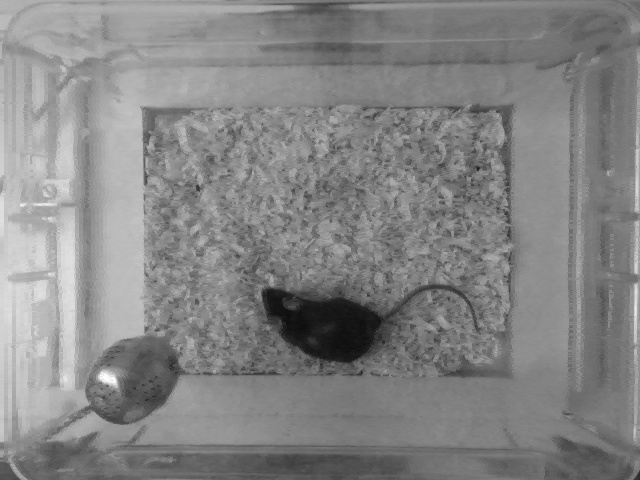mice: (258, 278, 481, 367)
